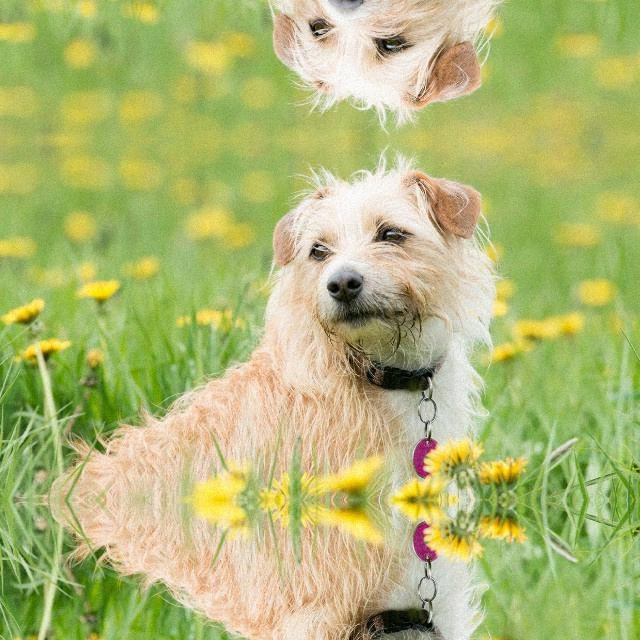dog: (267, 146, 499, 416), (267, 0, 500, 132), (267, 582, 500, 640)
